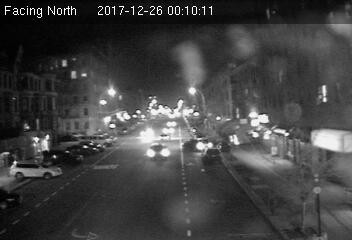car: (145, 143, 171, 160), (183, 139, 211, 152), (203, 145, 222, 162), (159, 134, 170, 141)
